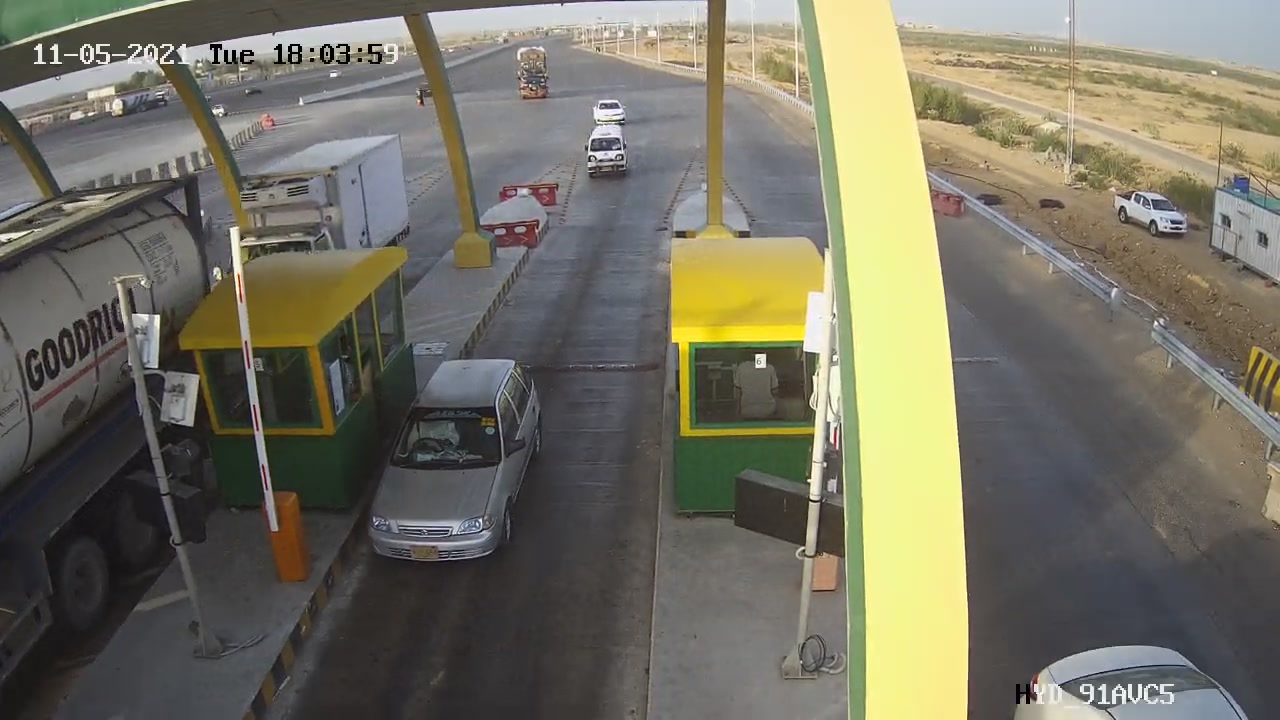F1: (352, 340, 565, 582)
